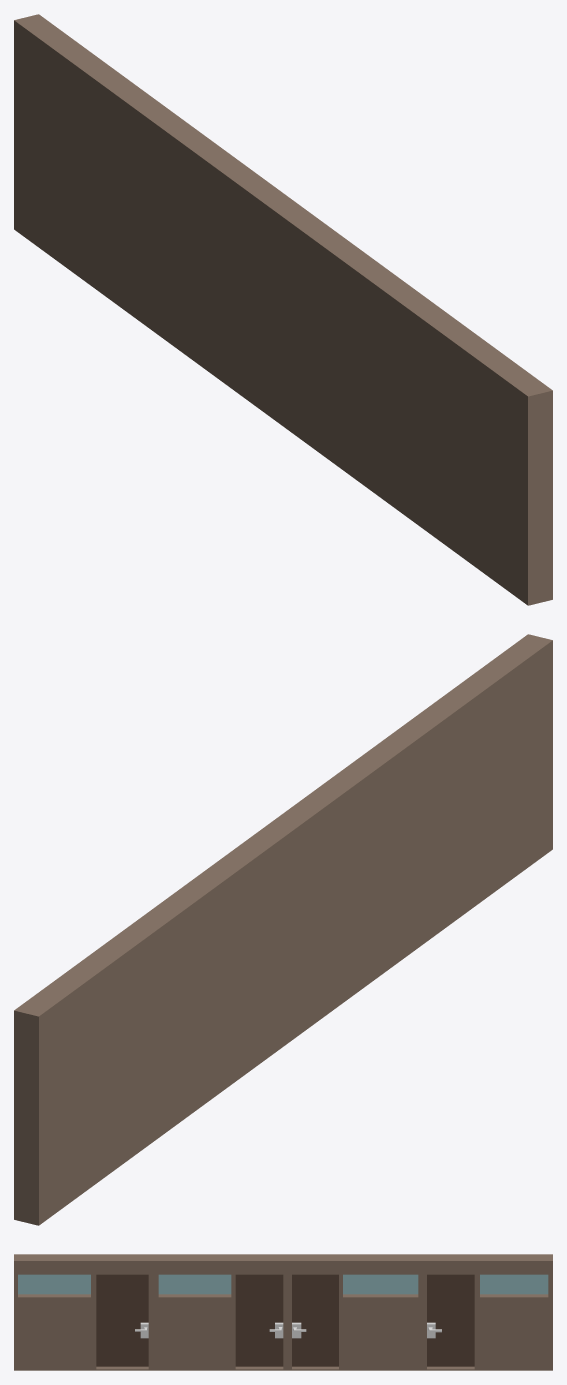
Rendered from F11_DoorsWall.fbx.
3 renders of one model, top to bottom at view 1: azimuth 30°, elevation 25°; view 2: azimuth 150°, elevation 25°; view 3: azimuth 270°, elevation 25°, orthographic. The views are drawn at different scales.
Visible parts, largest first — view 1: BackWall; view 2: BackWall; view 3: BackWall.
Part boxes in pixels (bbox=[...]): BackWall: bbox=[14, 14, 552, 605]; BackWall: bbox=[14, 634, 552, 1225]; BackWall: bbox=[14, 1254, 552, 1370].
Bounding box in the file's own units: 1.21 × 8.05 × 35.85.
